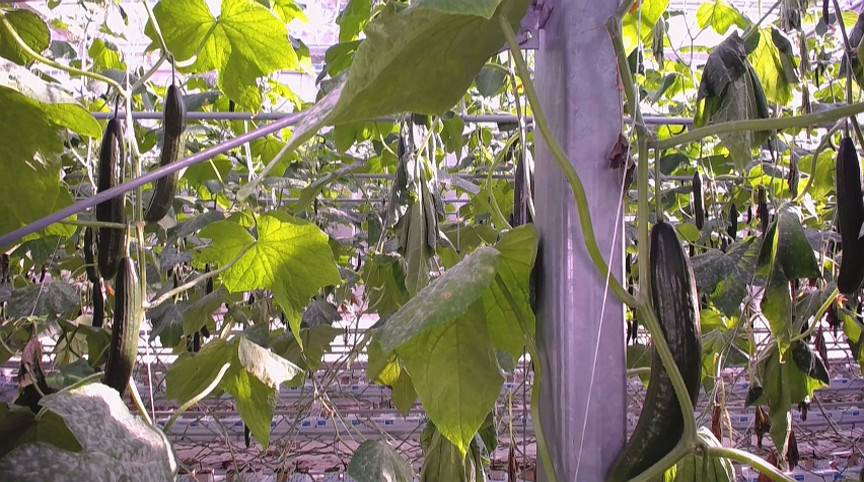cucumber: (605, 221, 704, 481), (144, 85, 189, 224), (105, 259, 142, 394), (98, 120, 127, 279), (837, 138, 864, 295), (691, 174, 706, 230)
